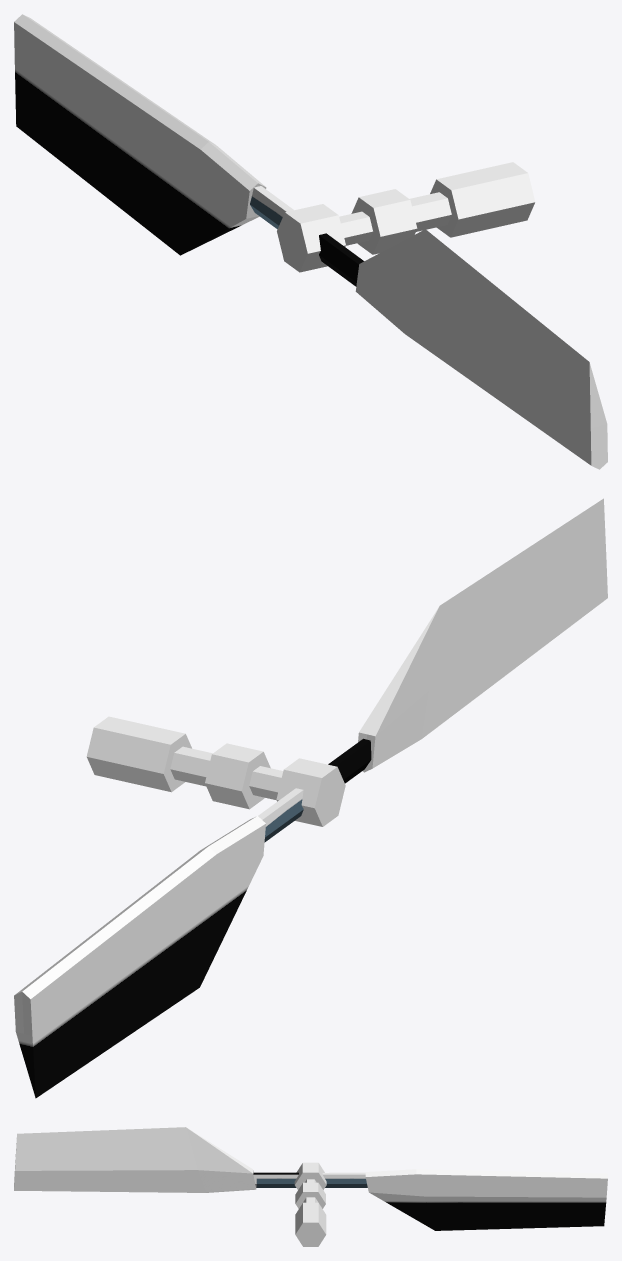
File: Bell206TailRotor.fbx
3 renders of one model, top to bottom at view 1: azimuth 30°, elevation 25°; view 2: azimuth 150°, elevation 25°; view 3: azimuth 270°, elevation 25°, orthographic. The views are drawn at different scales.
Visible parts, largest first — view 1: Cube.024; view 2: Cube.024; view 3: Cube.024.
Boxes of the visible parts, x1,y1,x2,y2 form: Cube.024: (14,14,607,469); Cube.024: (14,498,607,1098); Cube.024: (14,1127,607,1246).
Bounding box in the file's own units: 0.2701 × 0.229 × 1.18.
